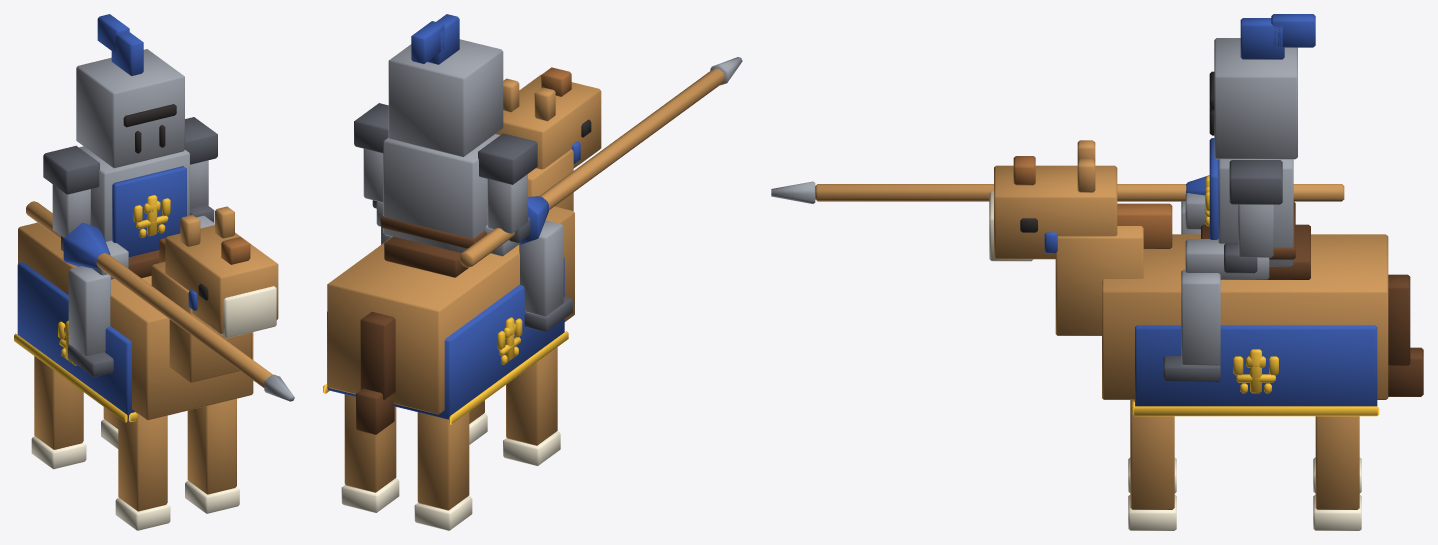
File: H_MedMountedKnight.fbx
The picture shows the model from 3 angles, left to right: view 1: azimuth 30°, elevation 25°; view 2: azimuth 150°, elevation 25°; view 3: azimuth 270°, elevation 25°; orthographic projection. The views are drawn at different scales.
Visible parts, largest first — view 1: M_MountedKnight; view 2: M_MountedKnight; view 3: M_MountedKnight.
Boxes of the visible parts, x1,y1,x2,y2 form: M_MountedKnight: [14, 14, 294, 530]; M_MountedKnight: [323, 14, 742, 530]; M_MountedKnight: [771, 14, 1423, 530].
Size of the model in its own units: 0.92 by 2.44 by 2.96.
1 material, 1 textured.
